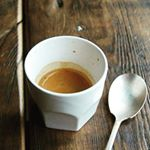cups: (20, 33, 111, 132)
